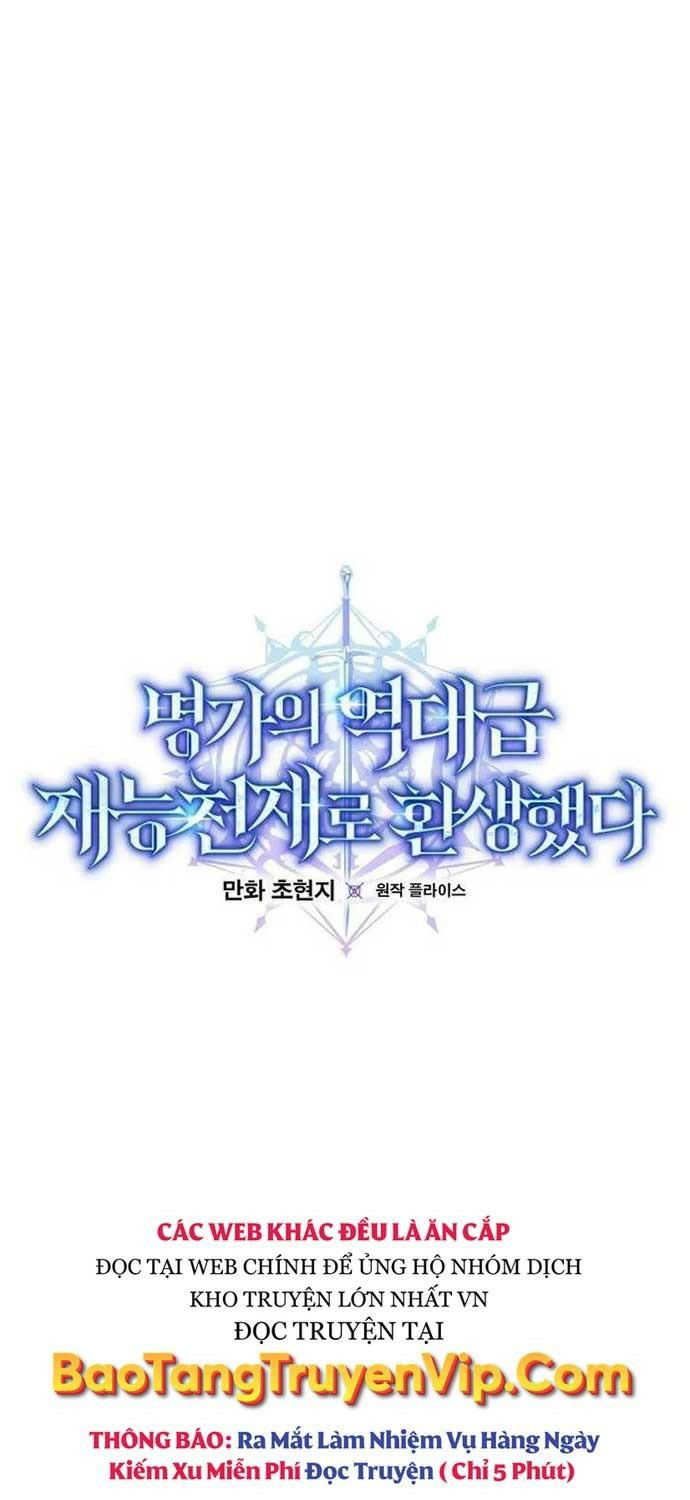quangcao: (46, 1210, 638, 1496)
